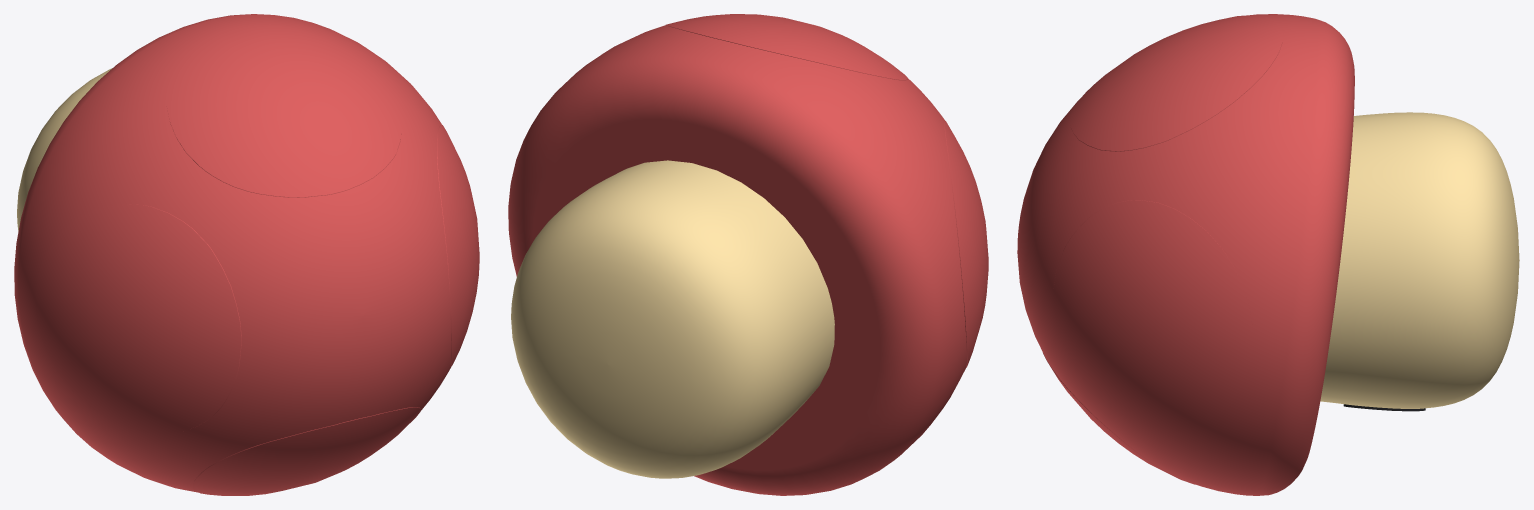
File: Super Mario Power Mushroom.fbx
3 views of the same model, side by side, from view 1: azimuth 30°, elevation 25°; view 2: azimuth 150°, elevation 25°; view 3: azimuth 270°, elevation 25° (orthographic). The views are drawn at different scales.
Parts seen in each view (by area): view 1: Body4; view 2: Body4; view 3: Body4.
Part boxes in pixels (box(x1,y1,x2,y2)): Body4: box(14, 14, 479, 495); Body4: box(508, 14, 988, 495); Body4: box(1017, 14, 1519, 495).
Size of the model in its own units: 100 by 100 by 104.
